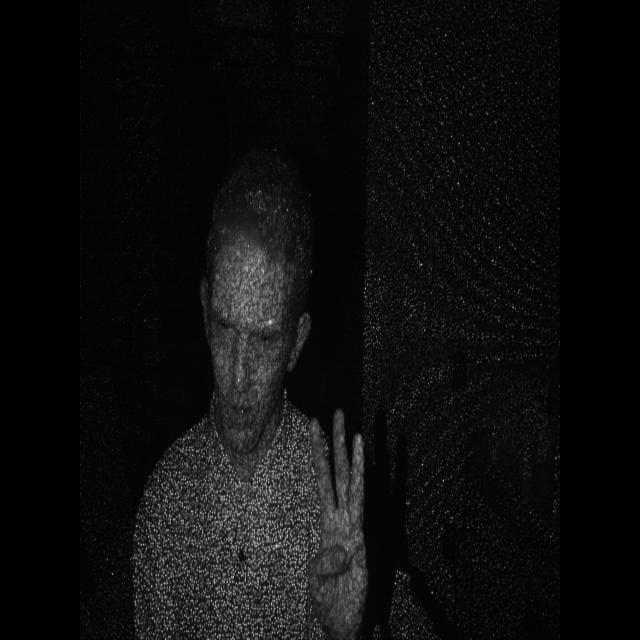W: (308, 397, 382, 635)
